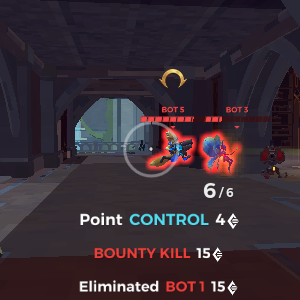model: (203, 133, 236, 182), (162, 129, 192, 170)
